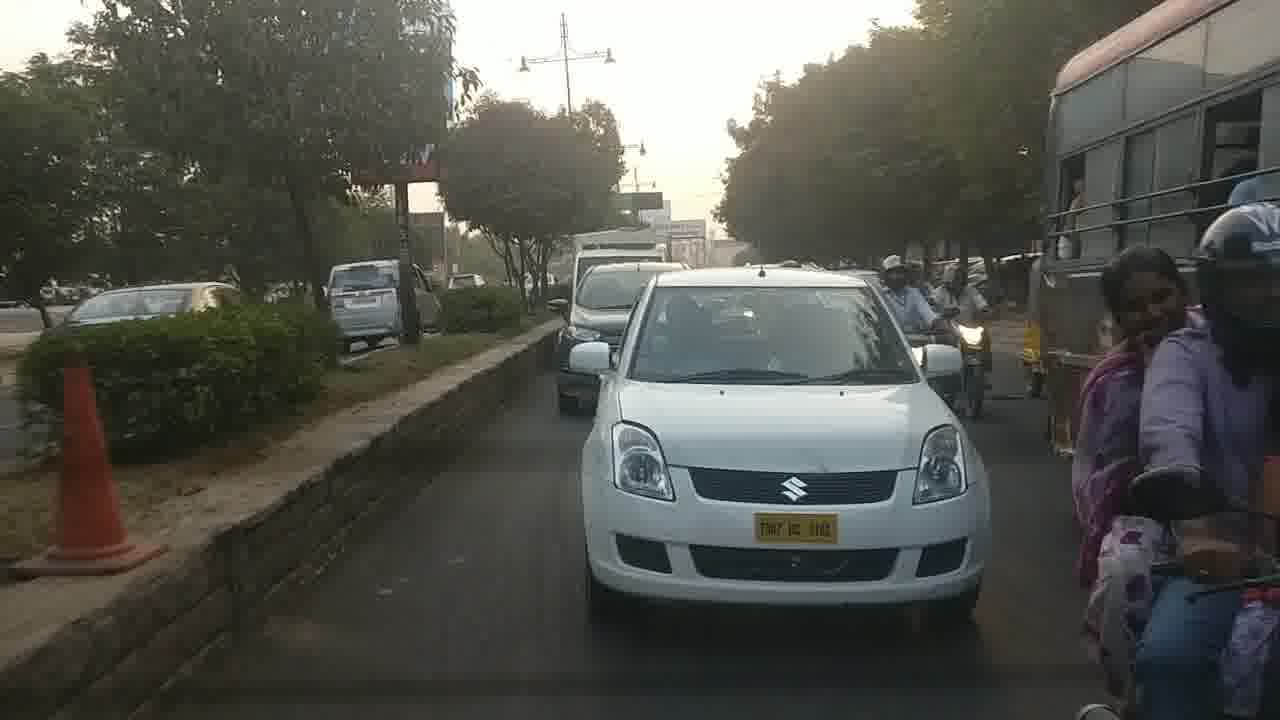swift desire: (593, 273, 991, 601)
